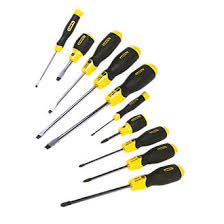screwdriver: (28, 5, 188, 213)
